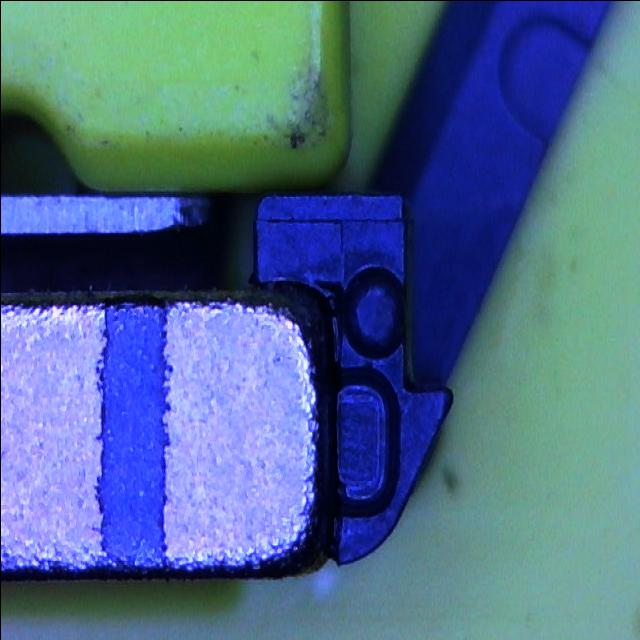lacking: (328, 363, 398, 518)
